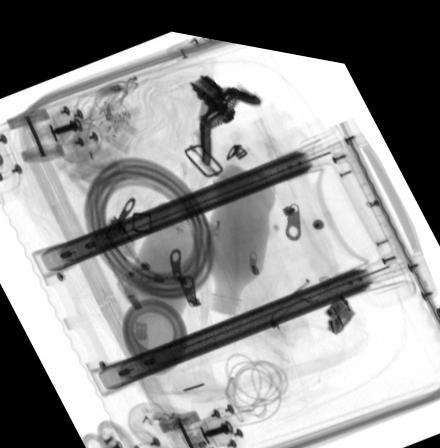Pliers: (190, 66, 259, 155)
